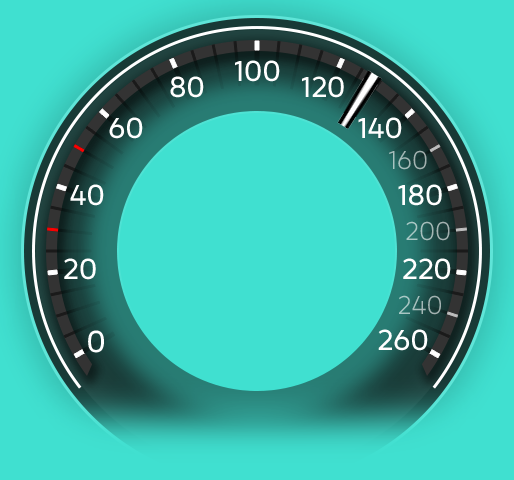TUBE: (12, 13, 496, 458)
